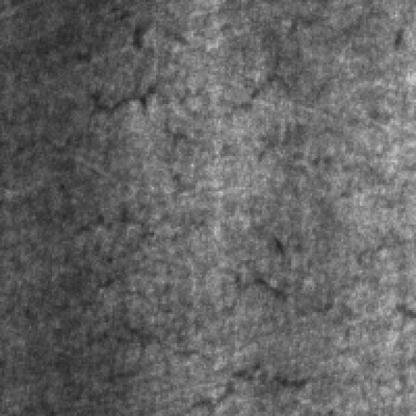crazing: (52, 256, 312, 410), (66, 13, 324, 115)
